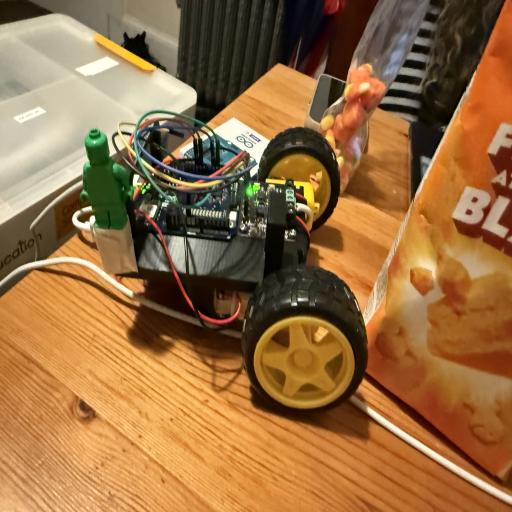Minifig: (81, 128, 133, 230)
